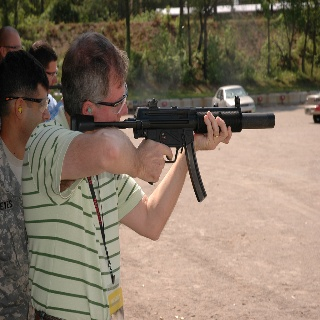rifle: (70, 95, 277, 202)
